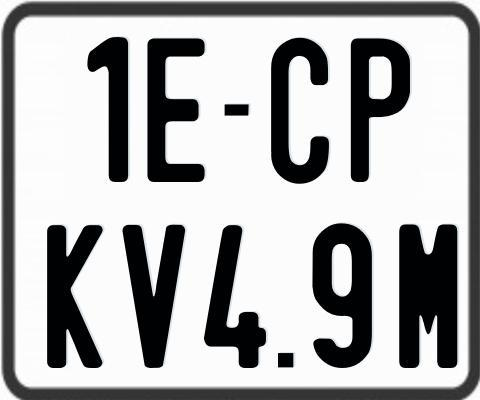1: (85, 35, 130, 185)
4: (201, 225, 265, 368)
9: (309, 221, 373, 367)
C: (270, 38, 328, 186)
E: (146, 37, 207, 186)
K: (47, 222, 108, 368)
M: (396, 223, 455, 370)
P: (351, 35, 411, 184)
V: (121, 224, 188, 372)
